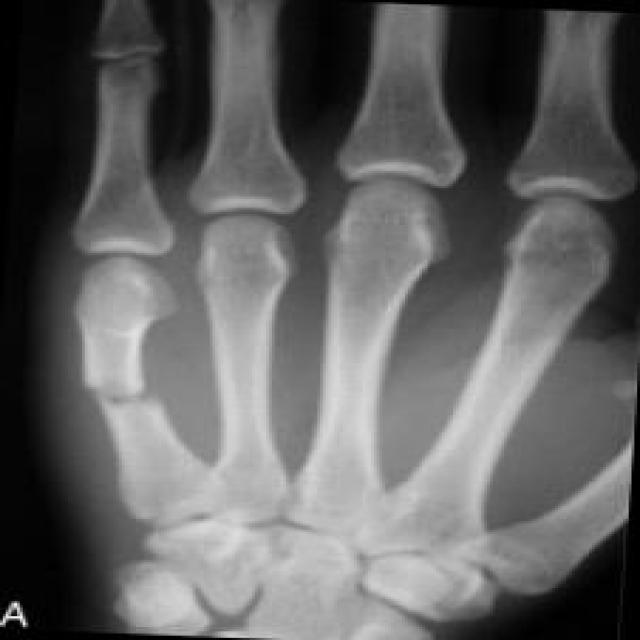Transverse Displaced: (80, 364, 176, 437)
